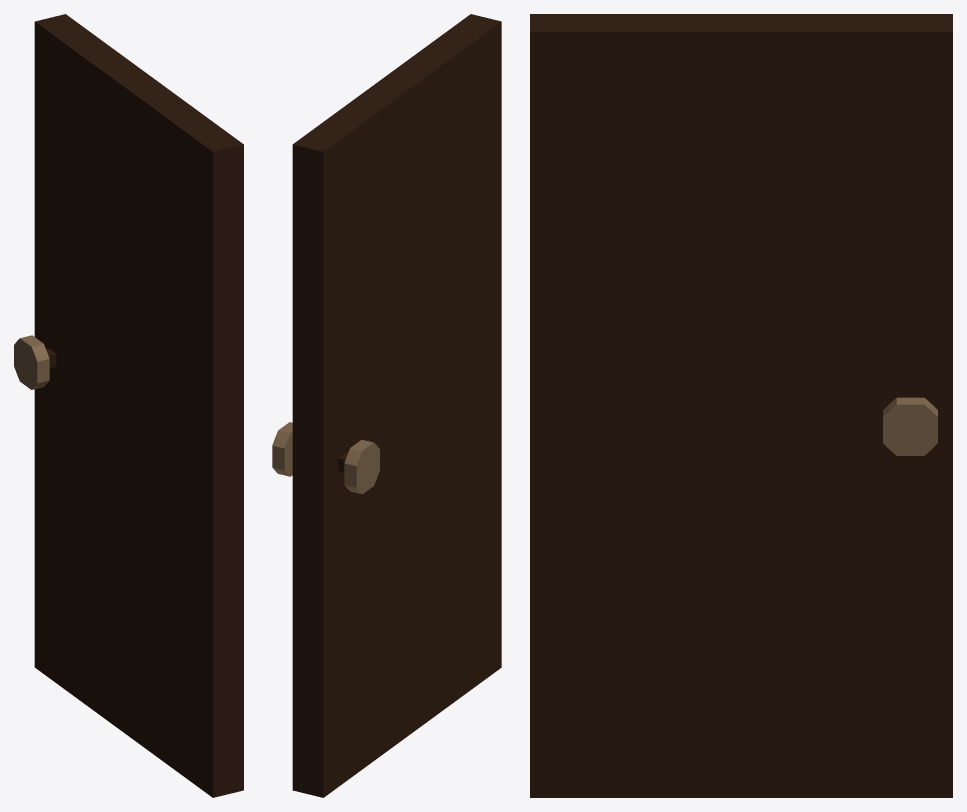
File: Door.fbx
3 renders of one model, left to right at view 1: azimuth 30°, elevation 25°; view 2: azimuth 150°, elevation 25°; view 3: azimuth 270°, elevation 25°, orthographic. The views are drawn at different scales.
Parts seen in each view (by area): view 1: Cube; view 2: Cube; view 3: Cube.
Boxes of the visible parts, box(x1,y1,x2,y2) form: Cube: box(14, 14, 243, 797); Cube: box(272, 14, 501, 797); Cube: box(530, 14, 952, 797).
Bounding box in the file's own units: 137 × 1000 × 500.
